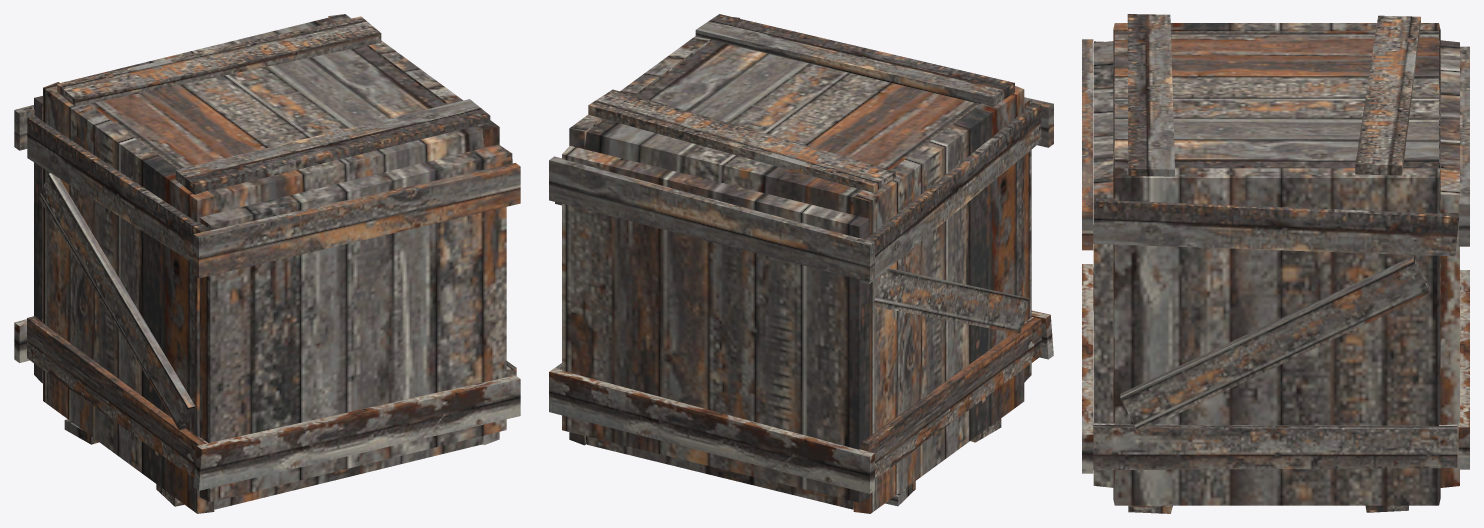
The model's file is Crate_v1_M2.gltf.
3 views of the same model, side by side, from view 1: azimuth 30°, elevation 25°; view 2: azimuth 150°, elevation 25°; view 3: azimuth 270°, elevation 25° (orthographic). The views are drawn at different scales.
Visible parts, largest first — view 1: Crate_v1_M2(Clone); view 2: Crate_v1_M2(Clone); view 3: Crate_v1_M2(Clone).
Part boxes in pixels (x1=…): Crate_v1_M2(Clone): x1=14, y1=14, x2=520, y2=513; Crate_v1_M2(Clone): x1=549, y1=14, x2=1053, y2=513; Crate_v1_M2(Clone): x1=1082, y1=14, x2=1469, y2=513.
Bounding box in the file's own units: 1.38 × 1.35 × 1.35.
Materials: 1 (1 with a texture image).
